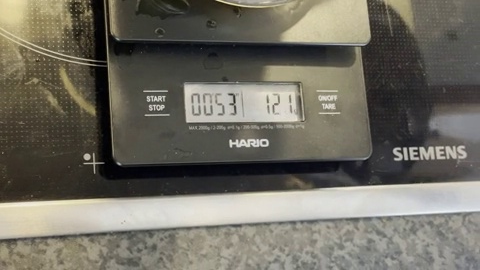display: (184, 82, 301, 122)
